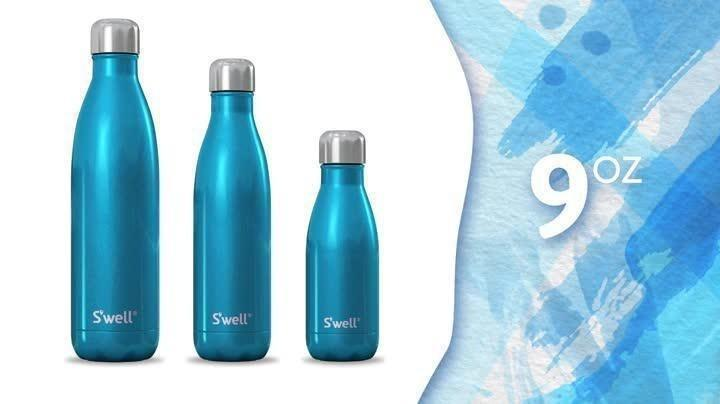gym bottle: (66, 15, 165, 364), (189, 56, 276, 363), (302, 128, 383, 362)
